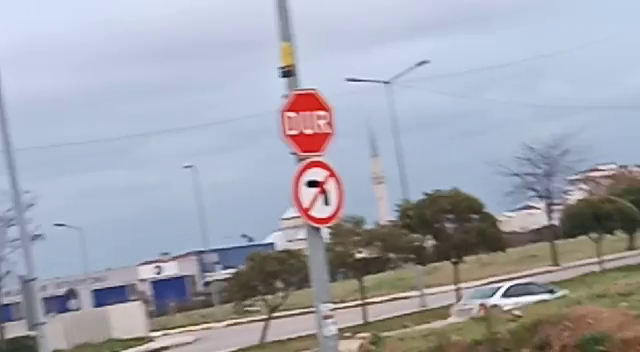no_left: (291, 157, 346, 229)
stop: (272, 87, 339, 160)
